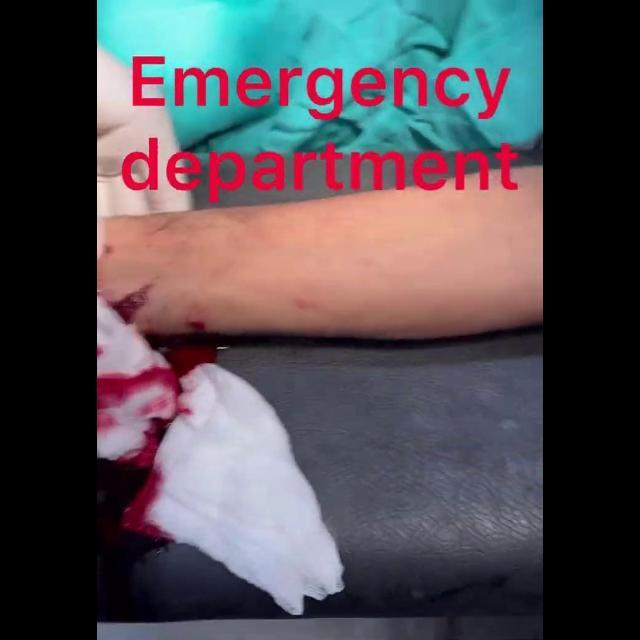blood: (97, 321, 215, 589), (111, 288, 148, 322)
